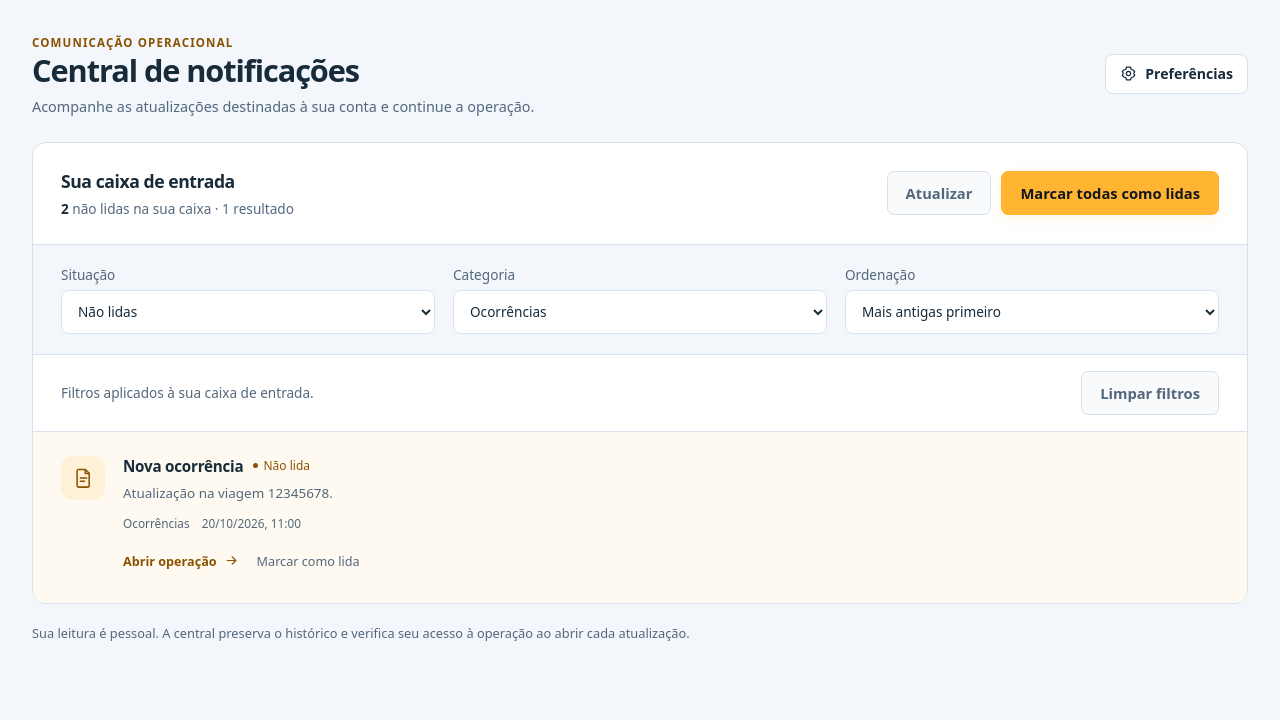
Test case: restaura filtros da URL e consulta o backend ao alterar
This screenshot has width=1280, height=720.
Check: the heading "Nova ocorrência" is shown, box [123,456,244,476]
Select "Viagens" in the dropdown labelled "Categoria" at (640, 312), box [453,290,827,334]
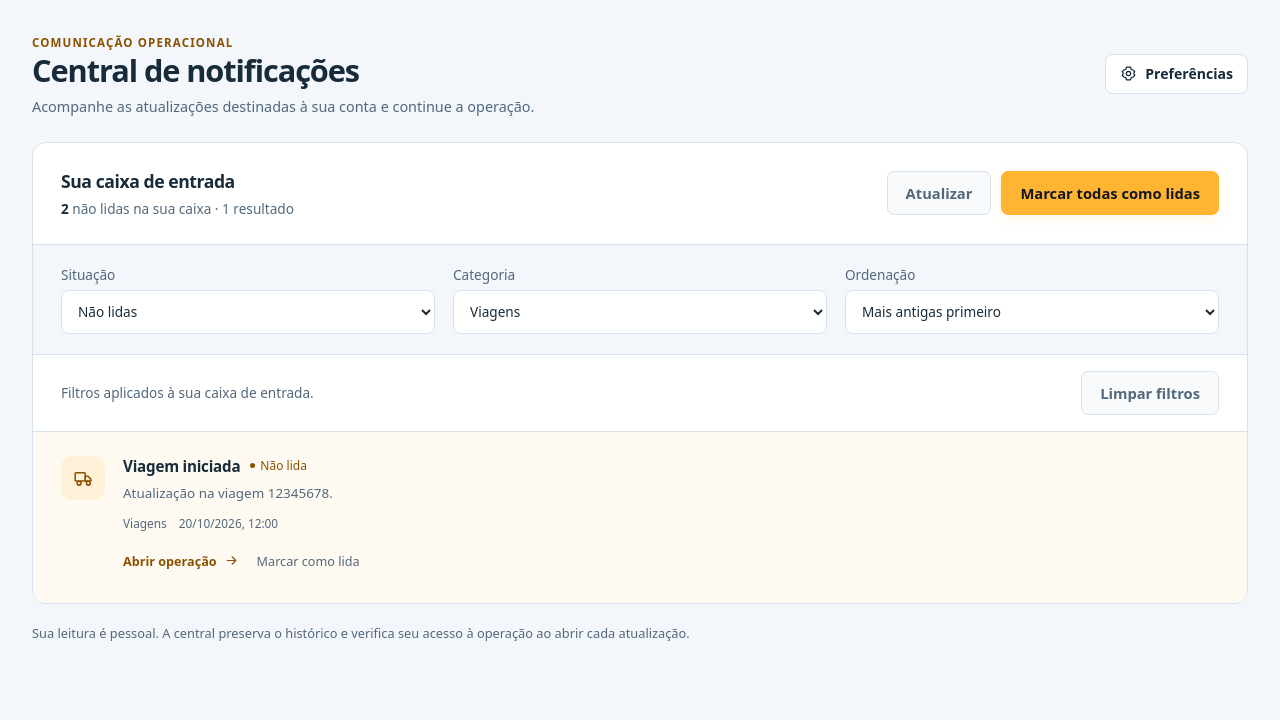
Check: the heading "Viagem iniciada" is shown, box [123,456,240,476]
